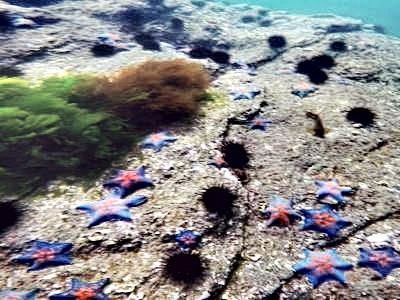urchin: (162, 248, 203, 282), (222, 140, 247, 166), (201, 183, 228, 206), (3, 198, 21, 232), (348, 107, 374, 128), (296, 60, 313, 76), (190, 46, 210, 59), (308, 68, 324, 83), (268, 34, 282, 47), (212, 50, 226, 61)
